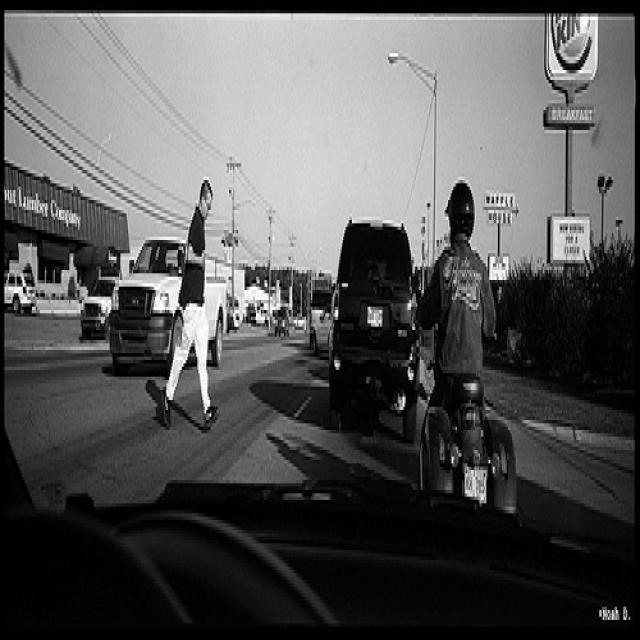motor: (423, 368, 525, 551)
